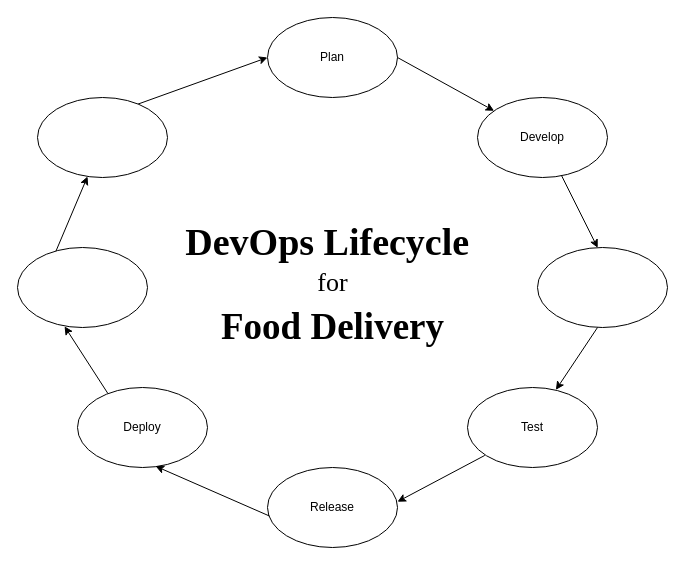
This 685x565 diagram has some shape labels left out. Each missing label, with the centre of its shape:
"Build" belongs at pixel 602 287.
"Feedback" belongs at pixel 102 137.
"Operate or Monitor" belongs at pixel 82 287.
